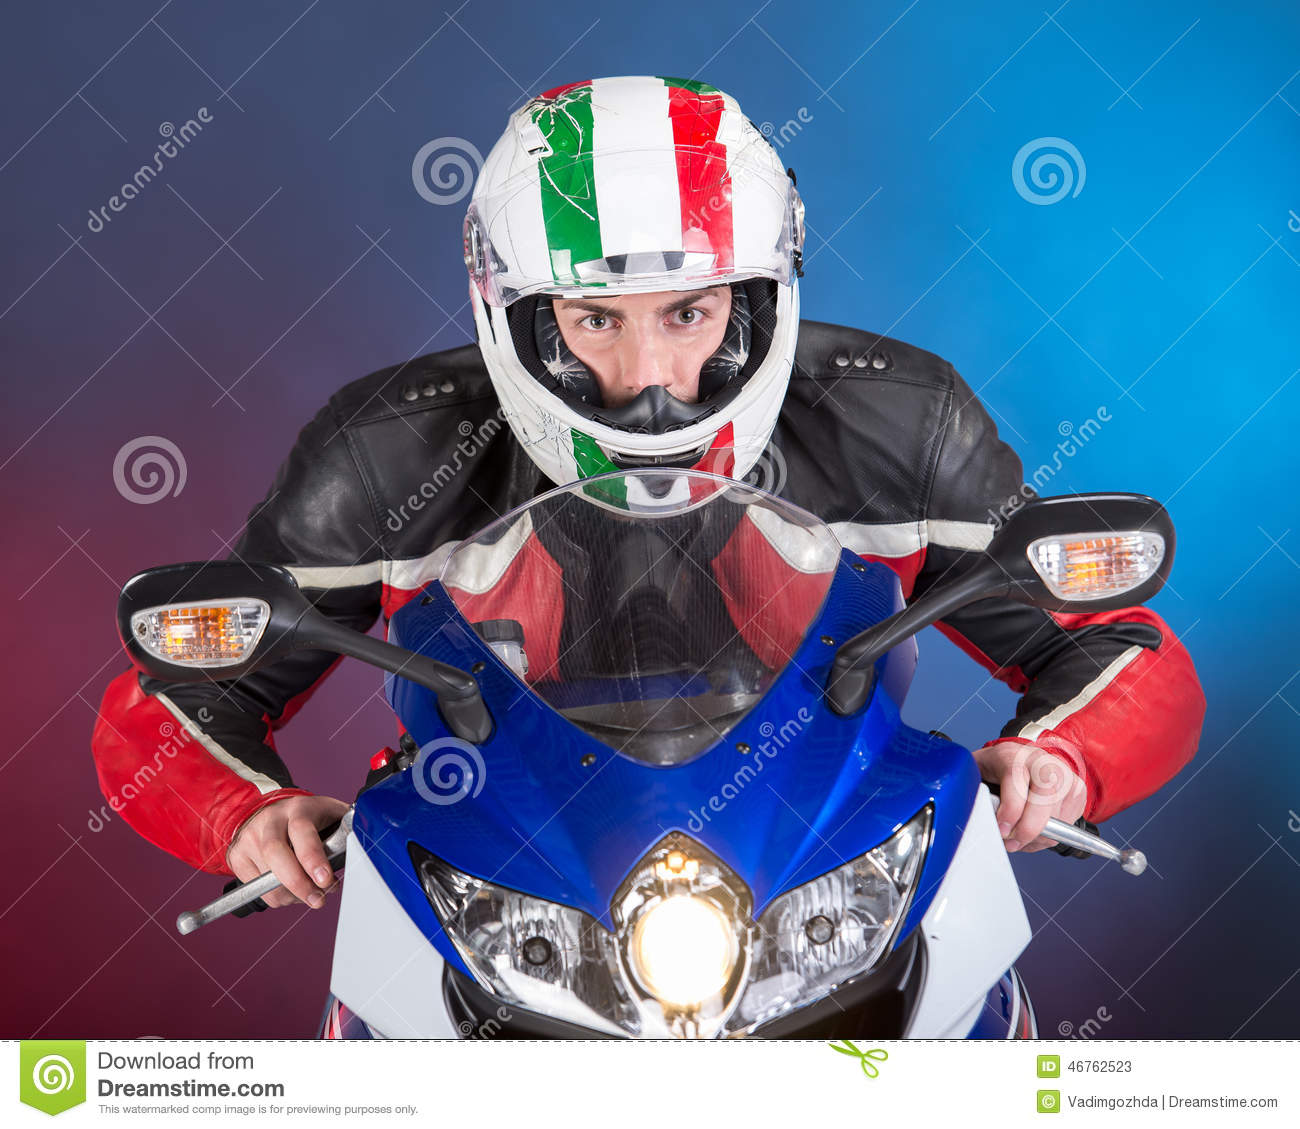helmet: (450, 84, 827, 498)
